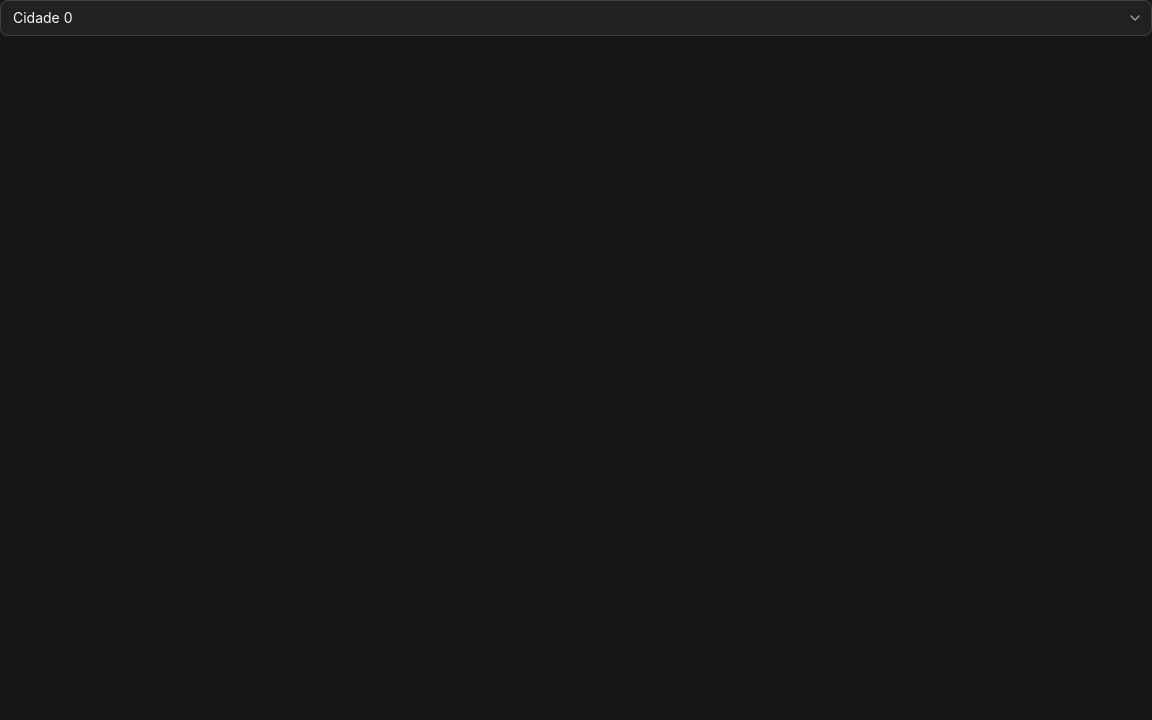
Test case: lista longa: tem busca sem ligar para acento
The image size is (1152, 720).
Later steps or results of the test are not shown.
Click the dropdown labelled "Cidade" at (43, 18), box [0,0,1151,36]
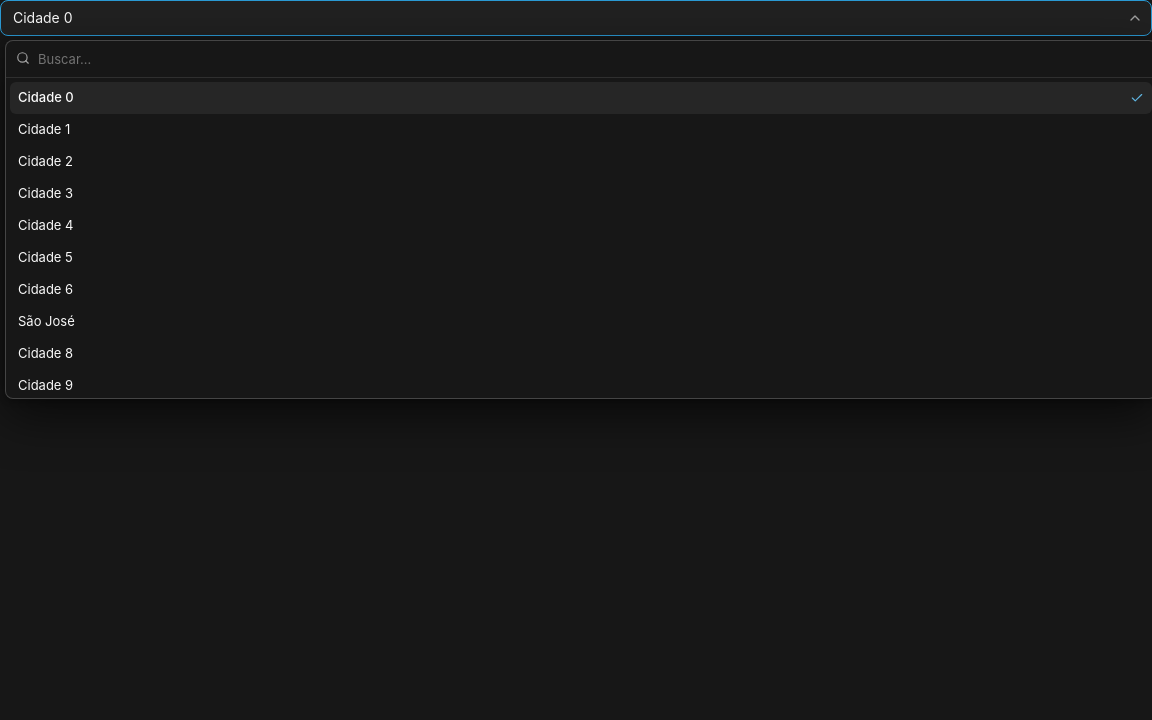
Type "sao jose" into the dropdown with placeholder "Buscar…" at (579, 59), box [6,41,1151,77]
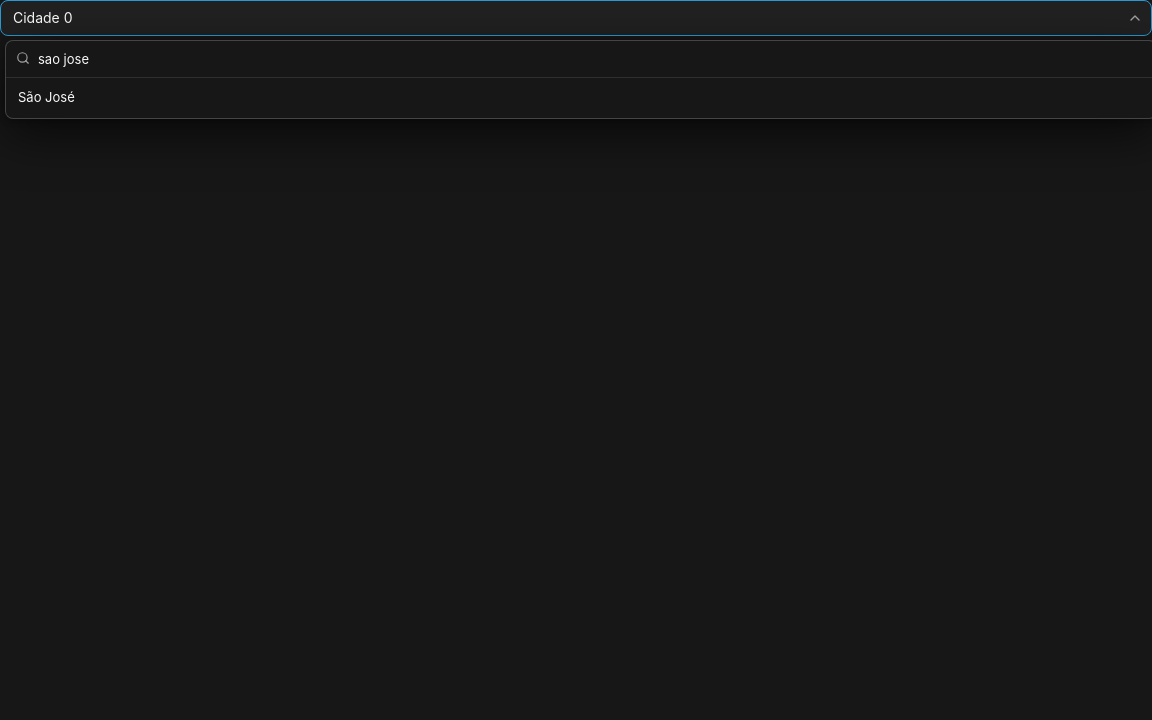
Check: the number of options is 1, box [18,89,75,105]
